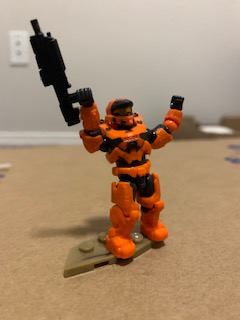rifle: (25, 18, 92, 131)
spartan: (75, 83, 186, 261)
up: (75, 85, 186, 165)
